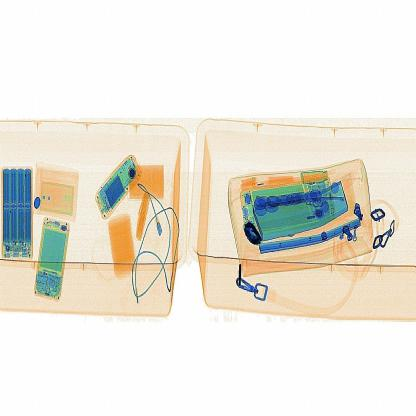scissors: (232, 216, 273, 258)
